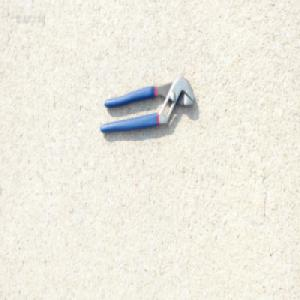Pliers: (99, 75, 195, 134)
